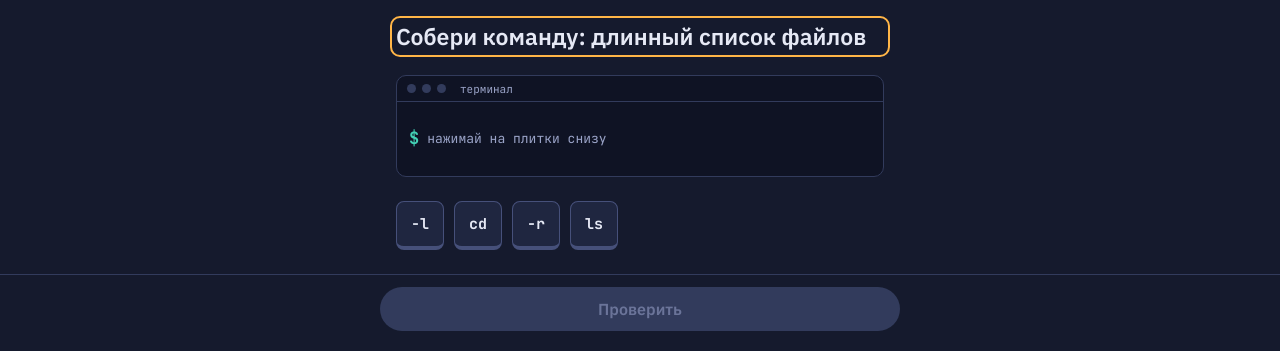
Test: AssembleView › a chosen tile goes back to the bank when tapped
Click the button "cd" at (478, 226), box [454, 201, 502, 250]
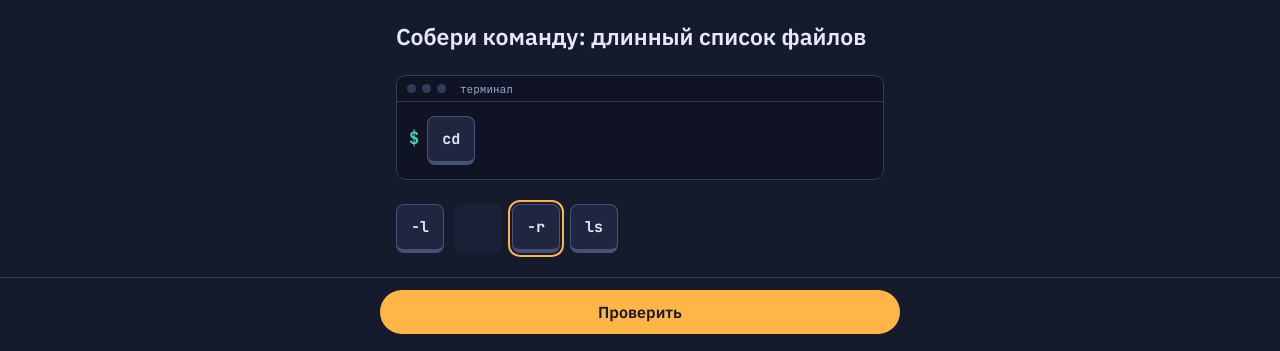
Click the button "cd" at (451, 140), box [427, 116, 475, 165]
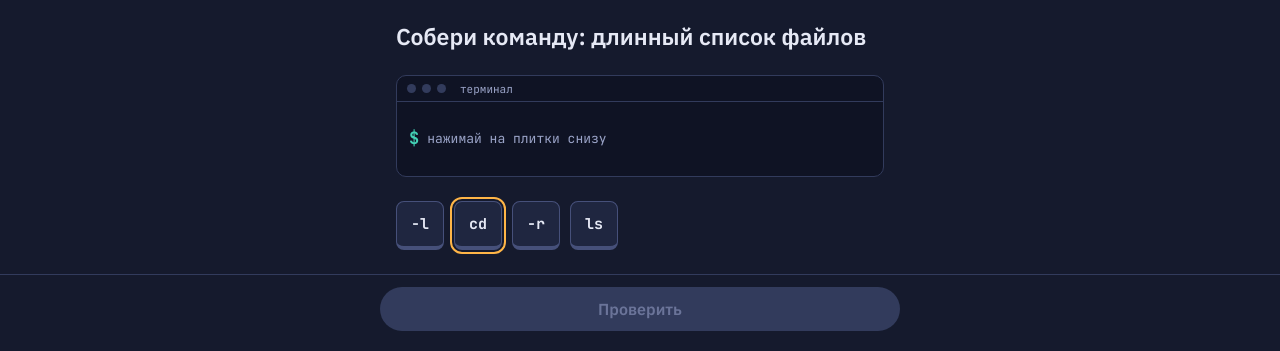
expect the button "cd" is enabled: met, box [454, 201, 502, 250]
expect the button "Проверить" is disabled: met, box [380, 287, 900, 331]
